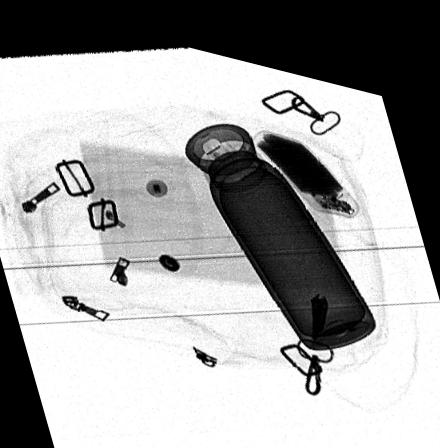Powerbank: (250, 116, 359, 201)
